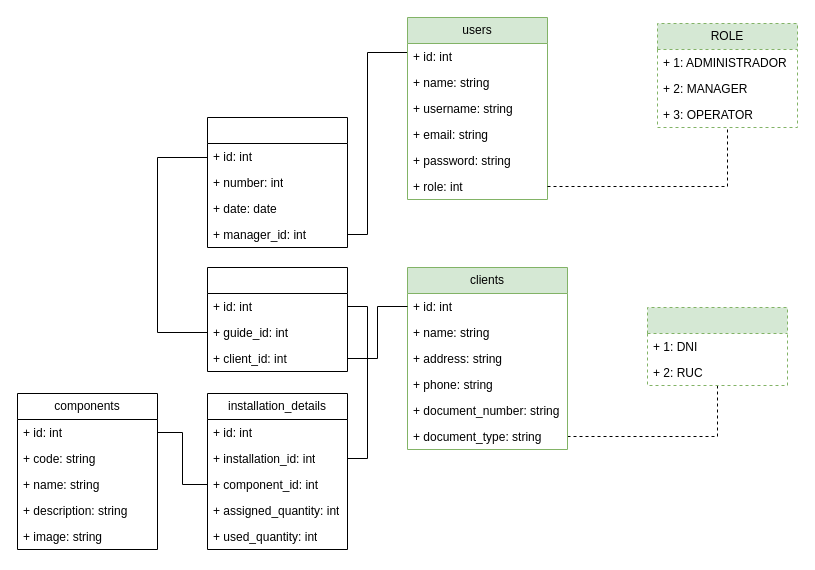
The diagram is 815 pixels wide and 570 high, and some of its shapes have lost their labels. The box of each missing label's shape, as (x1, y1, x2, y2) in pixels:
DOCUMENT TYPE: (646, 306, 788, 386)
guides: (206, 116, 348, 248)
installations: (206, 266, 348, 372)
